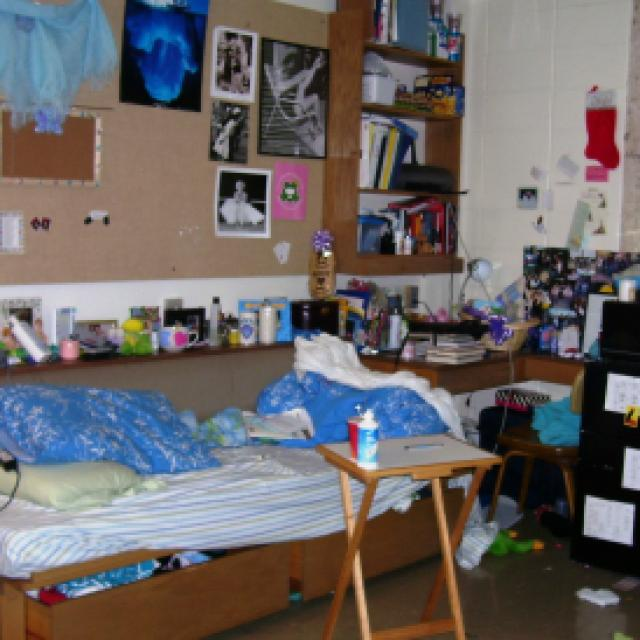mess: (0, 271, 554, 399)
